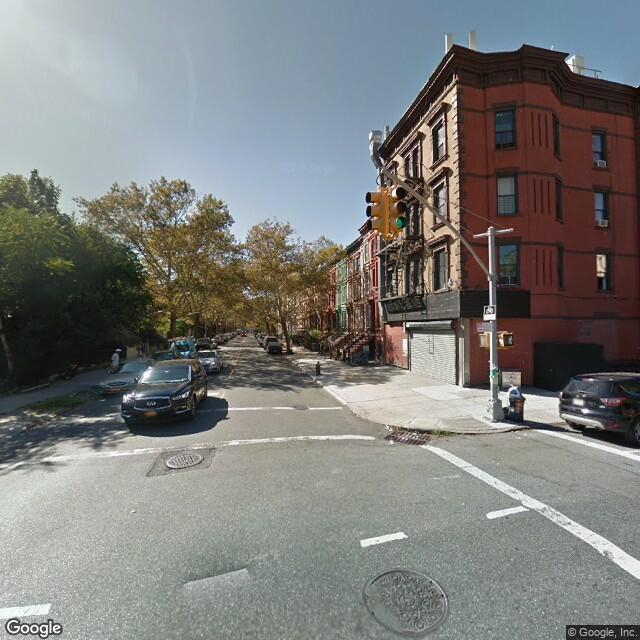litter: (384, 423, 436, 451), (505, 383, 523, 394)
